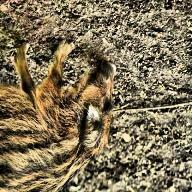boar: (2, 24, 130, 192)
